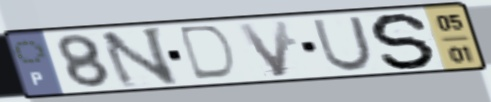8: (54, 31, 113, 91)
D: (178, 23, 239, 83)
N: (96, 24, 182, 91)
S: (368, 11, 439, 71)
U: (309, 14, 376, 73)
V: (233, 18, 293, 80)
